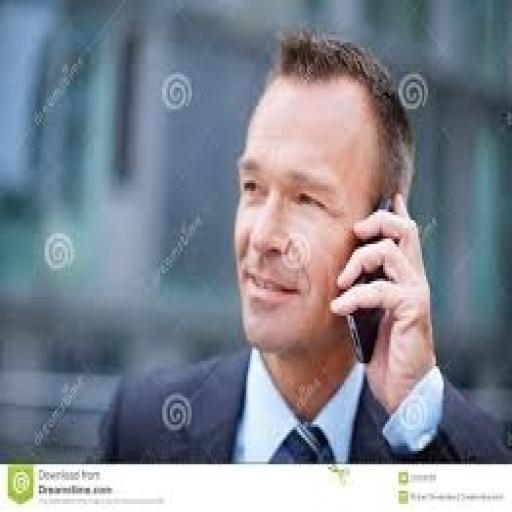calling: (94, 27, 510, 464)
